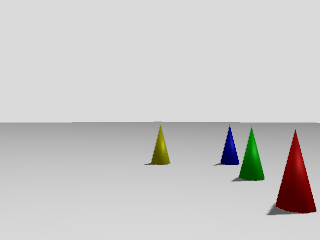blue: (216, 123, 240, 165)
green: (239, 125, 265, 184)
red: (276, 128, 317, 214)
yellow: (150, 125, 170, 165)
